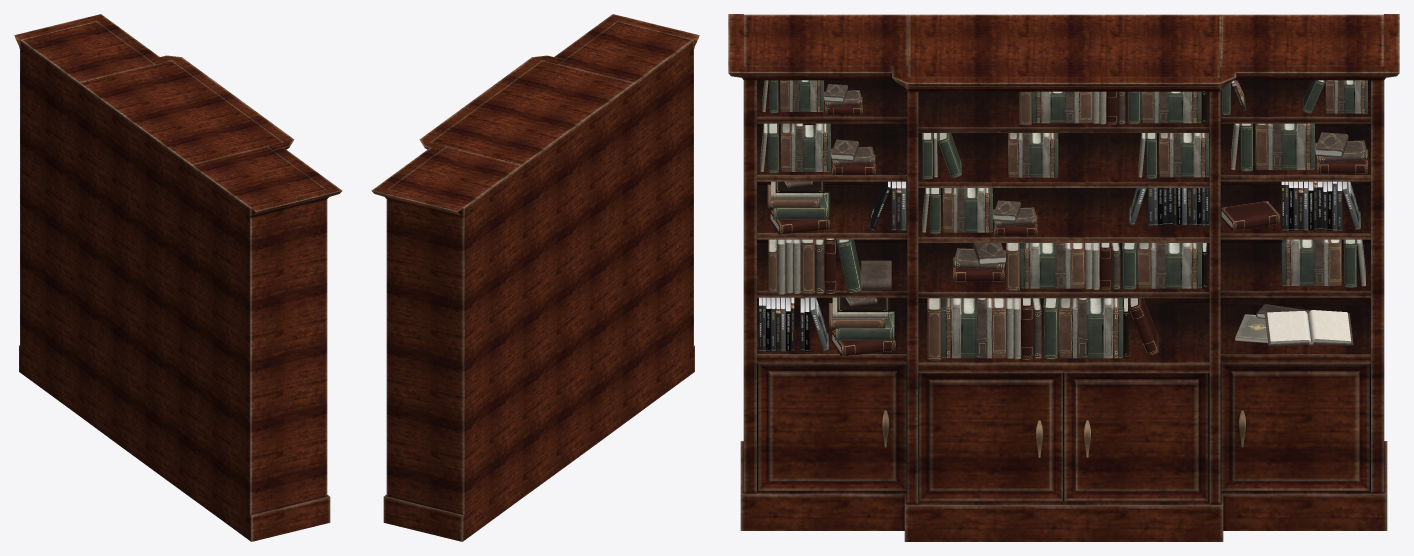
File: bookshelf.glb
3 renders of one model, left to right at view 1: azimuth 30°, elevation 25°; view 2: azimuth 150°, elevation 25°; view 3: azimuth 270°, elevation 25°, orthographic. The views are drawn at different scales.
Visible parts, largest first — view 1: shkaff_obj_1; view 2: shkaff_obj_1; view 3: shkaff_obj_1, BOOKS_1.
Part boxes in pixels (bbox=[...]): shkaff_obj_1: bbox=[14, 14, 342, 541]; shkaff_obj_1: bbox=[371, 14, 699, 541]; shkaff_obj_1: bbox=[728, 14, 1399, 541]; BOOKS_1: bbox=[758, 80, 1368, 360].
Bounding box in the file's own units: 1.24 × 3.82 × 5.01.
13 materials, 12 textured.
